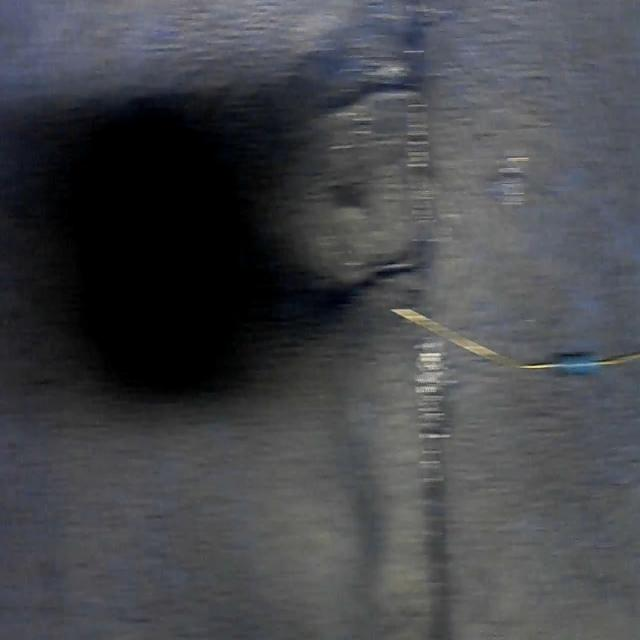resistor: (424, 316, 640, 404)
